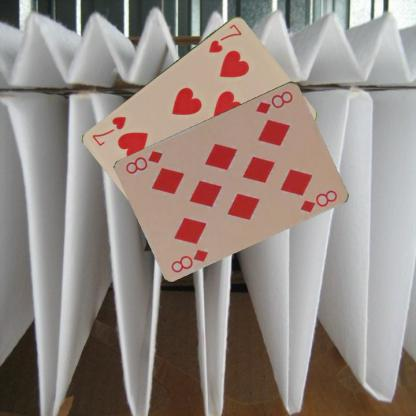7h: (206, 21, 243, 54)
8d: (168, 246, 210, 274), (253, 88, 295, 115)
